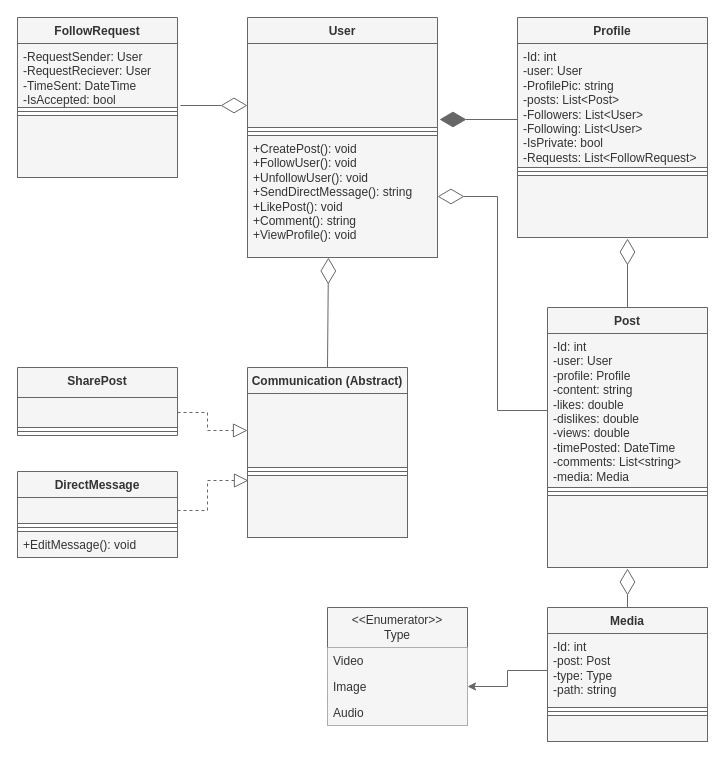
This 725x762 diagram has some shape labels left out. Here are the shapes that lost their labels. From the top down, the centre of each, then its label:
At point (342, 85): "-Id: int -Name: string -Email: string -Password: string -profile: Profile".
At point (97, 146): "+SendRequest(): void +AcceptRequest(): void +DeclineRequest(): void".
At point (612, 206): "+EditProfile(): void +MakePrivate(): void +ViewRequests(): void".
At point (97, 412): "-post: Post".
At point (327, 430): "-Id: int -Sender: User -Receiver: User -timeSent: DateTime".
At point (97, 510): "-content: string".
At point (327, 506): "+Send(): void +View(): void +Delete(): void".
At point (627, 531): "+EditPost(): void +LikePost(): void +DislikePost(): void +ViewOwner(): void".
At point (627, 728): "+UploadMedia(): void".
